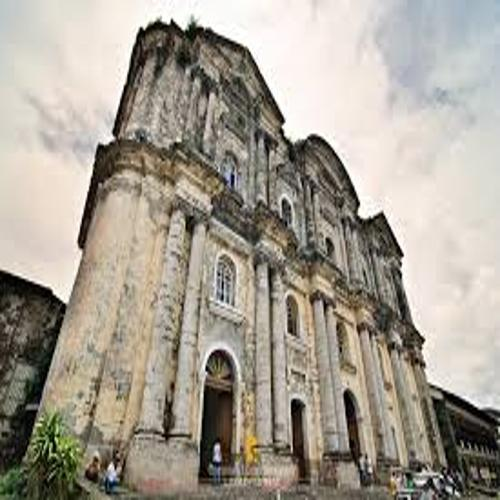Taal Basilica Church: (45, 10, 446, 499)
